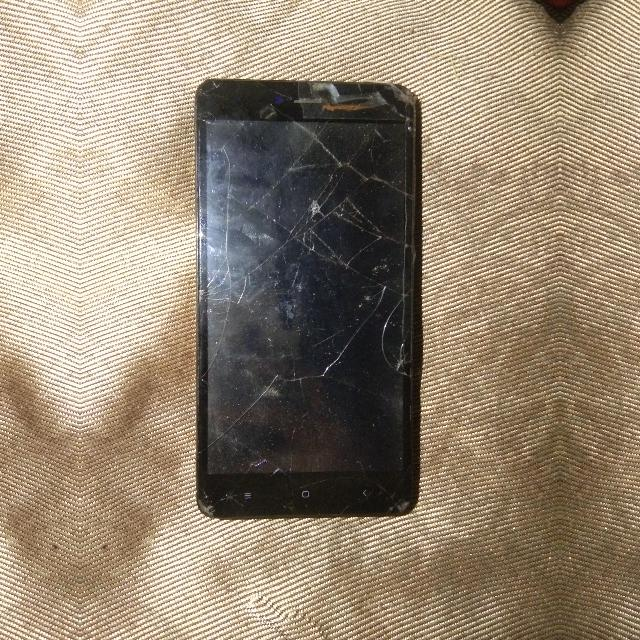phone_screen: (199, 84, 414, 515)
